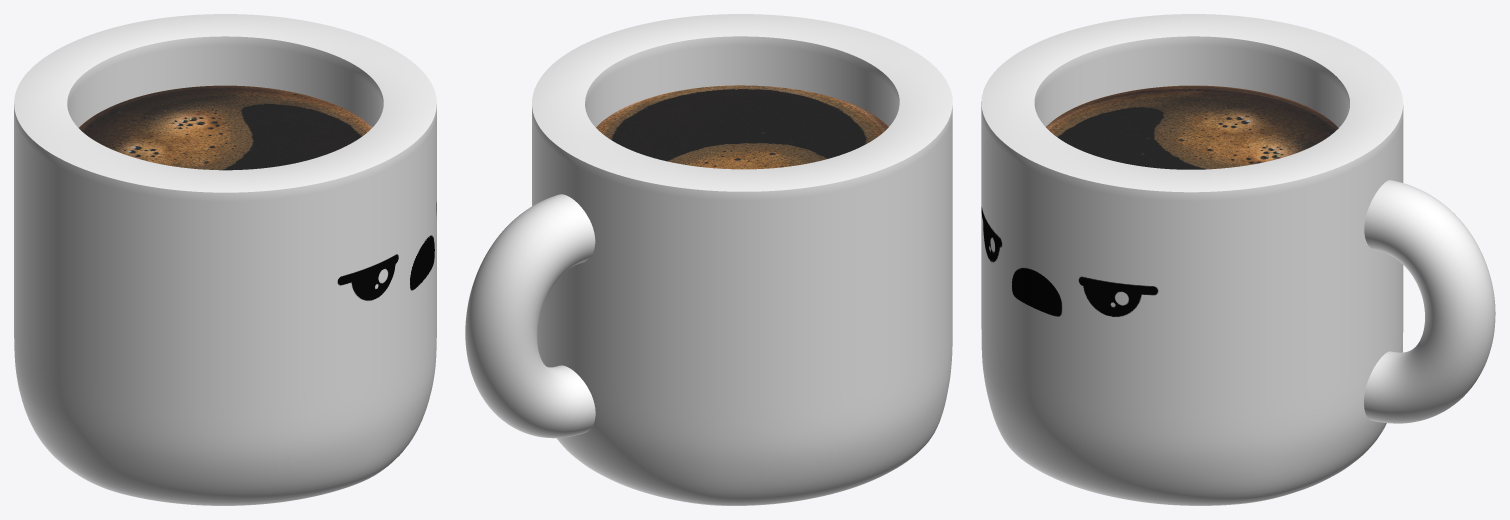
File: cute_coffee_cup.glb
3 renders of one model, left to right at view 1: azimuth 30°, elevation 25°; view 2: azimuth 150°, elevation 25°; view 3: azimuth 270°, elevation 25°, orthographic.
Visible parts, largest first — view 1: Roundcube.003, Circle; view 2: Roundcube.003, BezierCircle, Circle; view 3: Roundcube.003, BezierCircle, Circle.
Part boxes in pixels (x1,y1,x2,y2): Roundcube.003: [14, 14, 436, 505]; Circle: [79, 85, 371, 170]; Roundcube.003: [532, 14, 952, 505]; BezierCircle: [465, 194, 595, 438]; Circle: [596, 85, 888, 169]; Roundcube.003: [981, 14, 1403, 505]; BezierCircle: [1364, 180, 1495, 423]; Circle: [1046, 85, 1338, 169].
Size of the model in its own units: 0.6666 by 0.6057 by 0.8125.
Materials: 3 (2 with a texture image).
